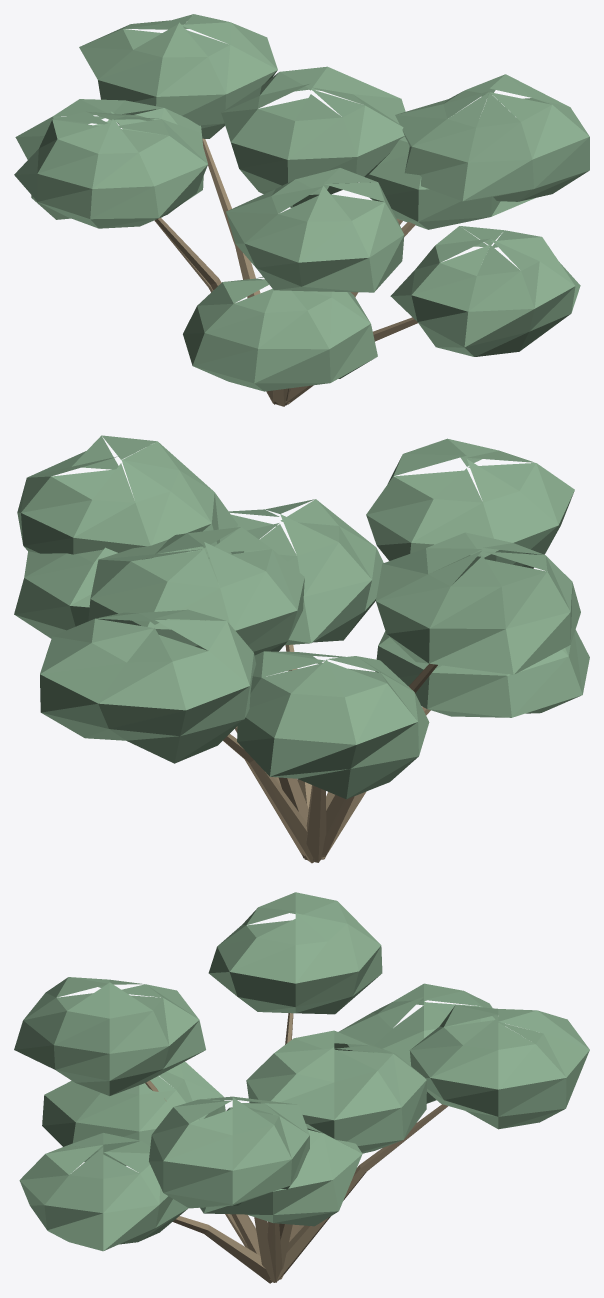
File: desert-canyons-and-oases-sagebrush-74384d13__21004.glb
The picture shows the model from 3 angles, top to bottom: view 1: azimuth 30°, elevation 25°; view 2: azimuth 150°, elevation 25°; view 3: azimuth 270°, elevation 25°; orthographic projection. The views are drawn at different scales.
Visible parts, largest first — view 1: sagebrush; view 2: sagebrush; view 3: sagebrush.
Boxes of the visible parts, x1,y1,x2,y2 form: sagebrush: (14,14,589,406); sagebrush: (14,435,589,863); sagebrush: (14,892,589,1283).
Bounding box in the file's own units: 1.27 × 0.7518 × 1.32.
